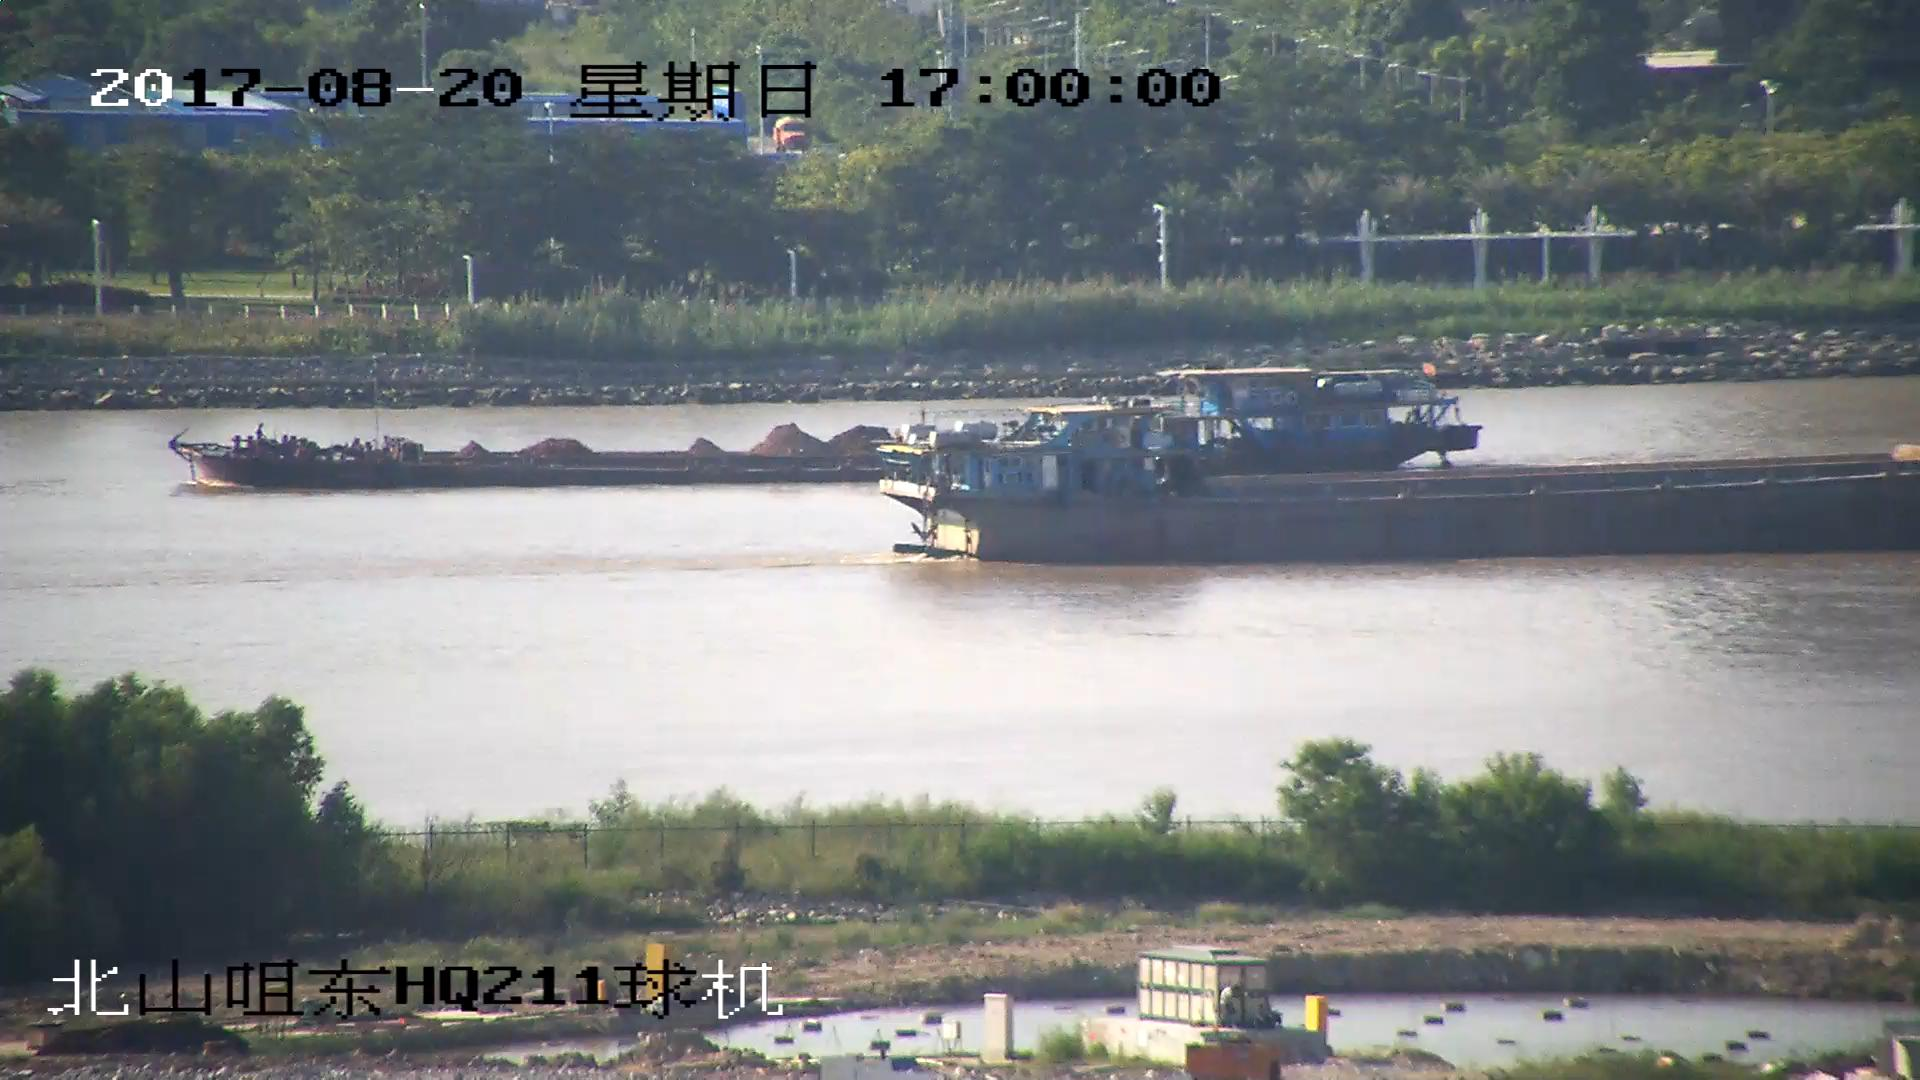bulk cargo carrier: (872, 408, 1920, 569)
ore carrier: (168, 365, 1474, 495)
